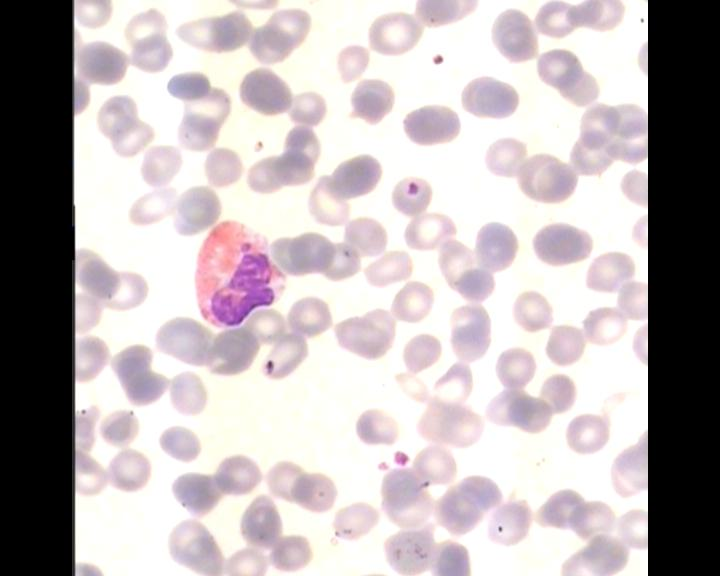eosi: (191, 213, 289, 329)
